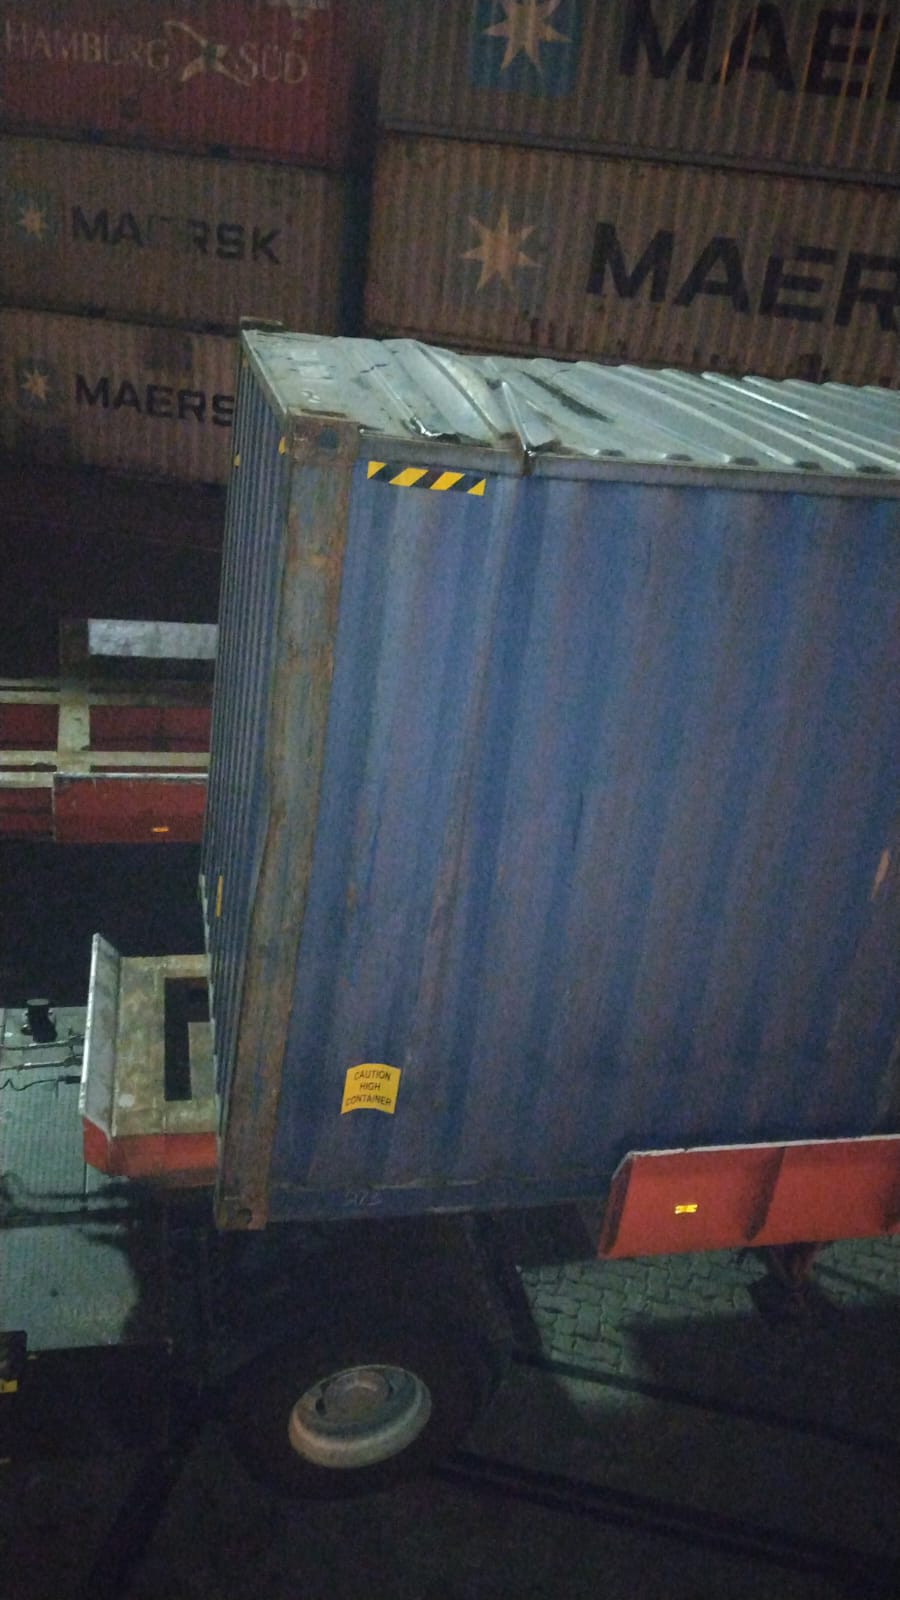bulged: (307, 349, 616, 481)
